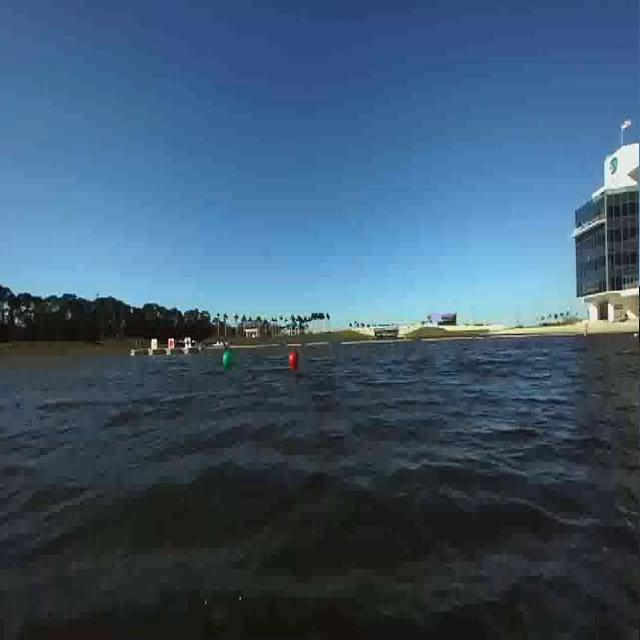green-buoy: (218, 344, 242, 374)
red-buoy: (284, 347, 310, 382)
